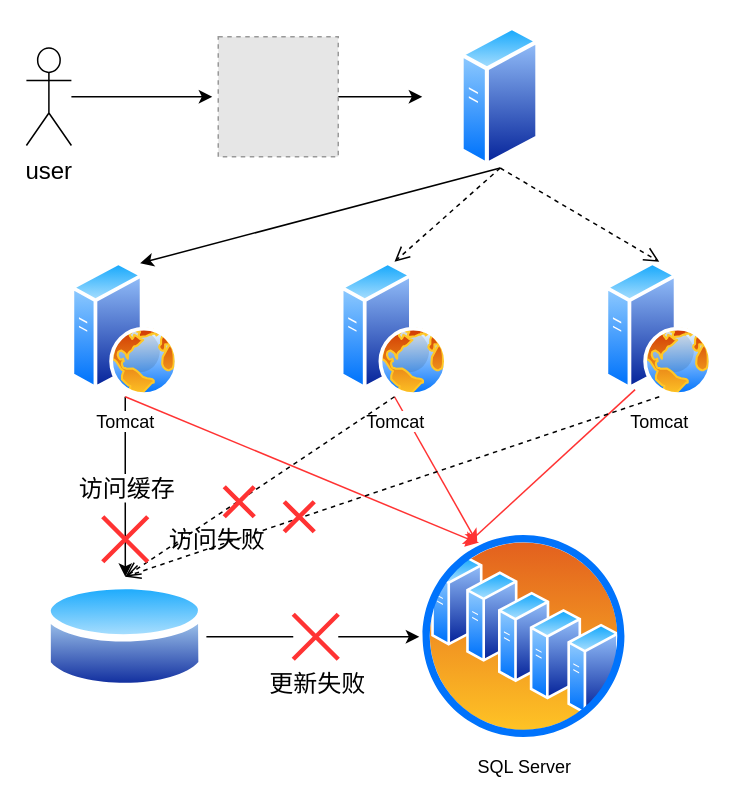
Image size: 740x804. Some labels were removed from this diagram. Grey dashed boxes stand in for pictures. Each missing label, with the centre of its shape:
"Nginx" belongs at (499,96).
"Redis" belongs at (125,636).
